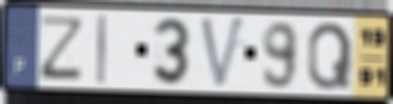3: (151, 15, 193, 88)
9: (260, 19, 300, 90)
I: (95, 13, 109, 86)
Q: (305, 20, 354, 92)
V: (198, 14, 248, 93)
Z: (37, 14, 87, 81)
